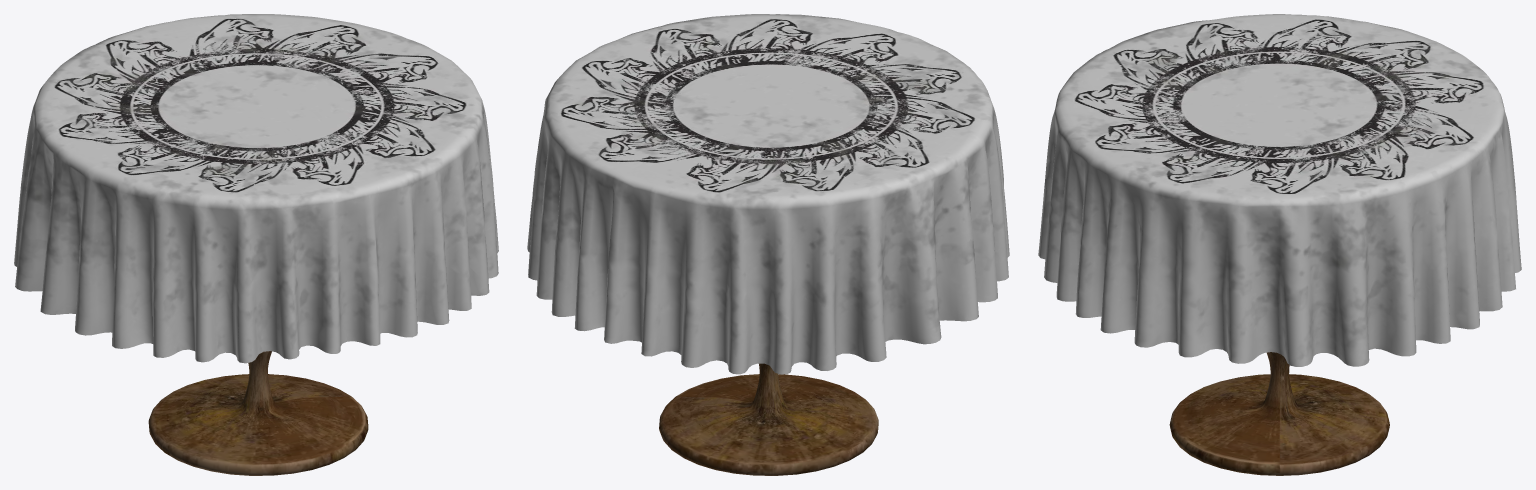
The model's file is decor_table.glb.
3 renders of one model, left to right at view 1: azimuth 30°, elevation 25°; view 2: azimuth 150°, elevation 25°; view 3: azimuth 270°, elevation 25°, orthographic.
Parts seen in each view (by area): view 1: Table Cloth_Cloth_0, Side Table_Side Table_0; view 2: Table Cloth_Cloth_0, Side Table_Side Table_0; view 3: Table Cloth_Cloth_0, Side Table_Side Table_0.
Boxes of the visible parts, x1,y1,x2,y2 form: Table Cloth_Cloth_0: [14, 14, 498, 363]; Side Table_Side Table_0: [148, 351, 368, 475]; Table Cloth_Cloth_0: [527, 14, 1009, 374]; Side Table_Side Table_0: [659, 363, 878, 475]; Table Cloth_Cloth_0: [1038, 14, 1521, 366]; Side Table_Side Table_0: [1169, 352, 1389, 475].
Size of the model in its own units: 0.7362 by 0.5388 by 0.7249.
Materials: 2 (2 with a texture image).
